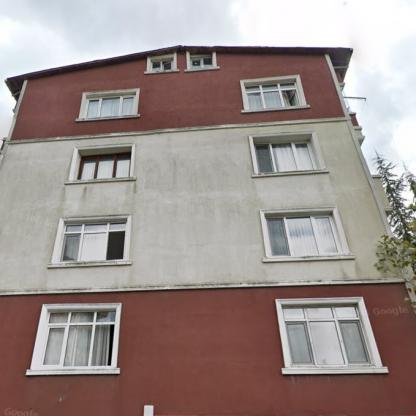window: (282, 305, 372, 366), (42, 310, 116, 367), (265, 215, 339, 257), (58, 221, 128, 261), (254, 141, 316, 172), (245, 82, 300, 110), (77, 152, 130, 180), (84, 96, 134, 118), (190, 56, 212, 67), (151, 59, 172, 70)
